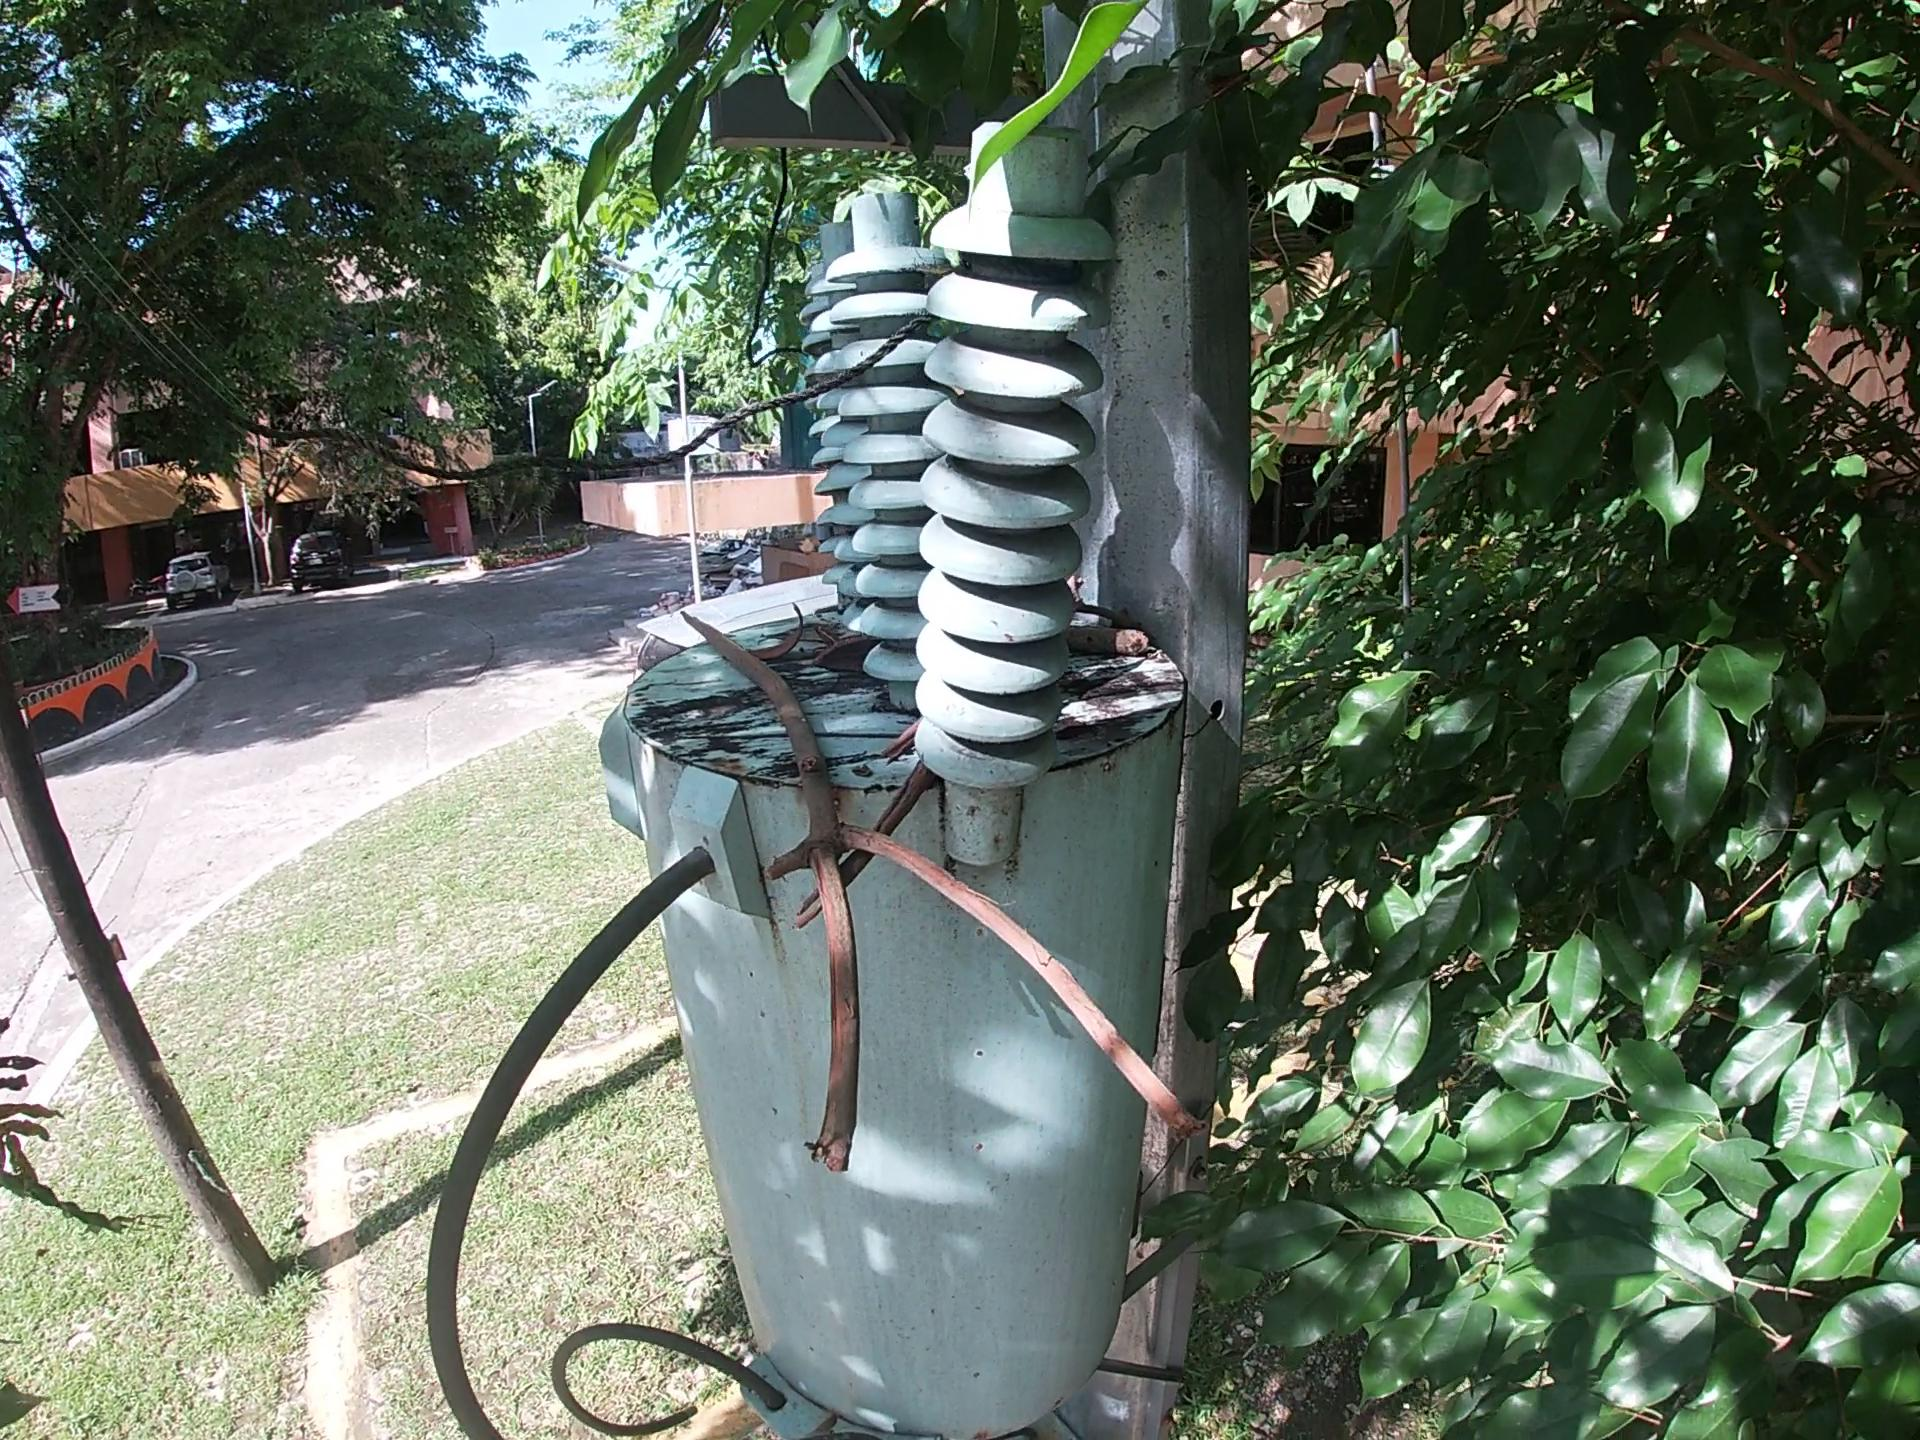mahogany fruit: (766, 594, 810, 658), (806, 644, 866, 685)
tree branch: (656, 601, 1222, 1234), (798, 774, 934, 939), (1069, 628, 1176, 666), (1066, 608, 1164, 628), (875, 722, 915, 767)
